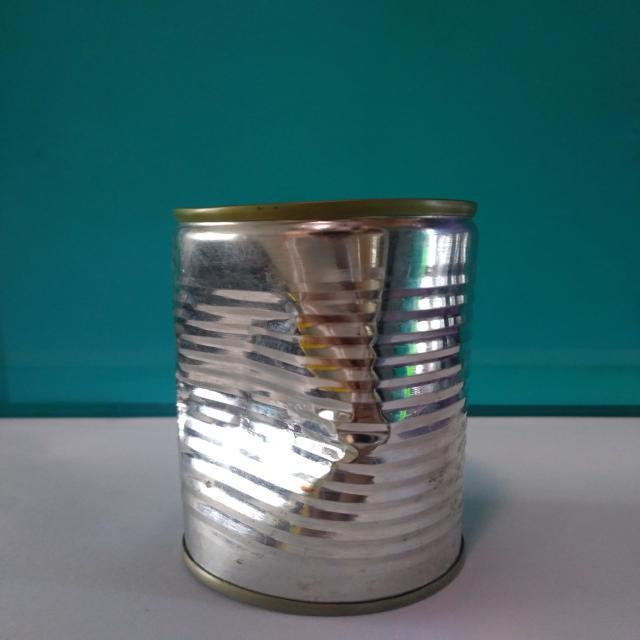metal-can: (167, 194, 486, 620)
